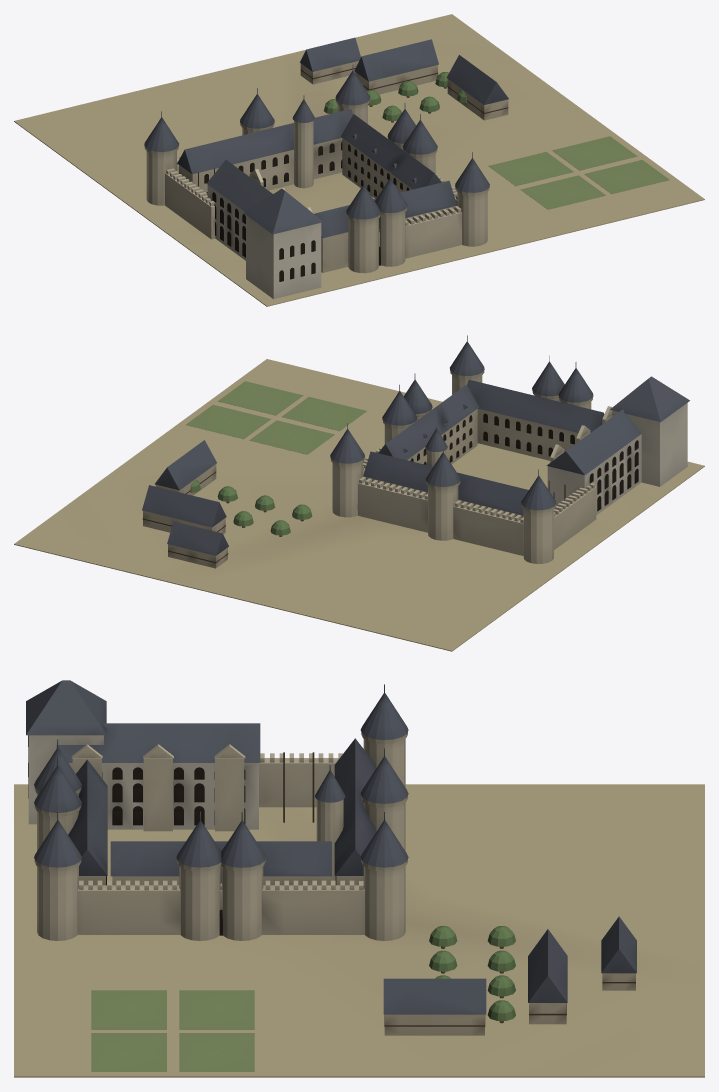
The model's file is louvre-1550.glb.
3 renders of one model, top to bottom at view 1: azimuth 30°, elevation 25°; view 2: azimuth 150°, elevation 25°; view 3: azimuth 270°, elevation 25°, orthographic. The views are drawn at different scales.
Visible parts, largest first — view 1: p0_walls, p1_towers, p2_keep; view 2: p0_walls, p1_towers, p2_keep; view 3: p0_walls, p1_towers, p2_keep.
Part boxes in pixels (x1=…): p0_walls: x1=14, y1=14, x2=704, y2=306; p1_towers: x1=144, y1=37, x2=669, y2=273; p2_keep: x1=198, y1=160, x2=323, y2=299; p0_walls: x1=14, y1=359, x2=704, y2=651; p1_towers: x1=142, y1=335, x2=593, y2=568; p2_keep: x1=546, y1=376, x2=689, y2=515; p0_walls: x1=14, y1=738, x2=704, y2=1077; p1_towers: x1=34, y1=684, x2=636, y2=1071; p2_keep: x1=26, y1=680, x2=314, y2=831.
Bounding box in the file's own units: 165 × 34.07 × 165.
